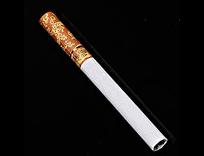Cigarette: (38, 11, 168, 151)
